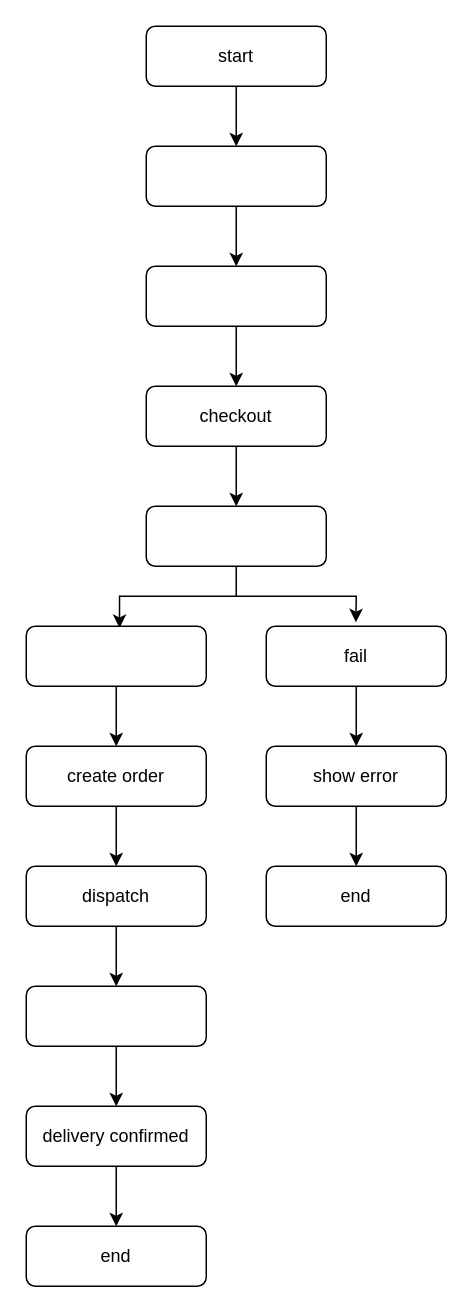
This 473x1313 diagram has some shape labels left out. Each missing label, with the box of its shape:
add to cart: (145, 265, 326, 326)
browse product: (145, 145, 326, 206)
payment info: (145, 505, 326, 566)
success: (25, 625, 206, 686)
track order: (25, 985, 206, 1046)
